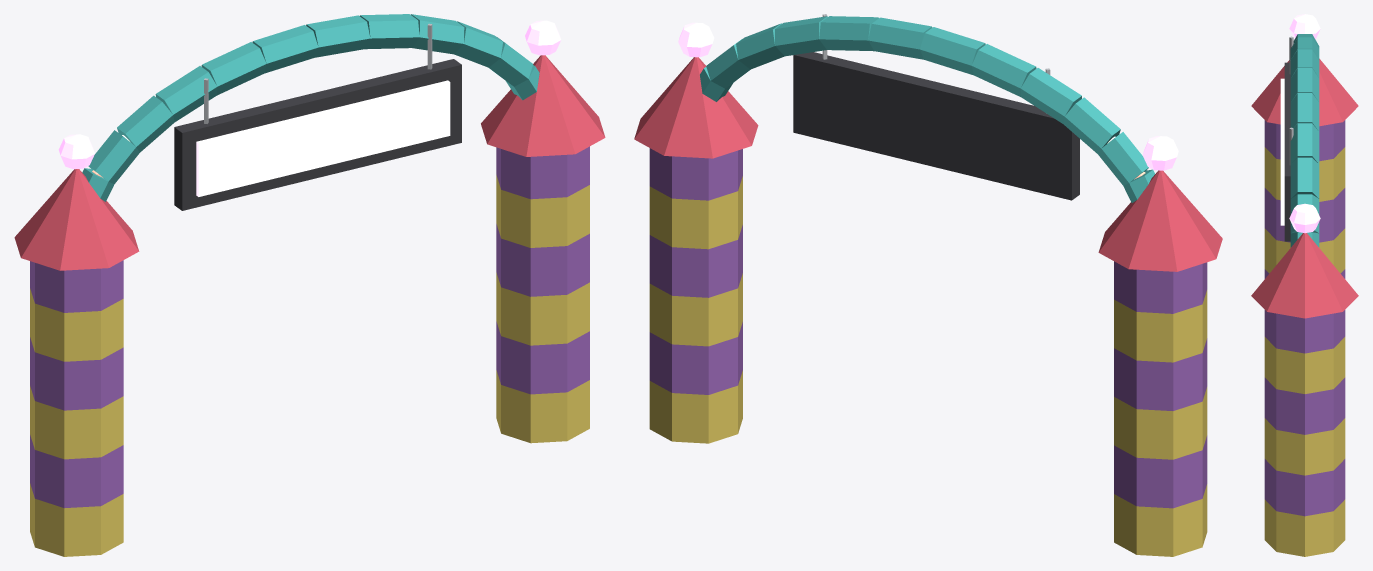
The model's file is arena_arch.glb.
3 views of the same model, side by side, from view 1: azimuth 30°, elevation 25°; view 2: azimuth 150°, elevation 25°; view 3: azimuth 270°, elevation 25° (orthographic). The views are drawn at different scales.
Parts seen in each view (by area): view 1: arena_arch; view 2: arena_arch; view 3: arena_arch.
Part boxes in pixels (x1=…): arena_arch: x1=14, y1=14, x2=605, y2=556; arena_arch: x1=634, y1=14, x2=1222, y2=556; arena_arch: x1=1251, y1=14, x2=1358, y2=556.
Bounding box in the file's own units: 12.4 × 9.28 × 2.4.
